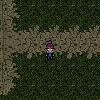Victim: (44, 40, 56, 61)
